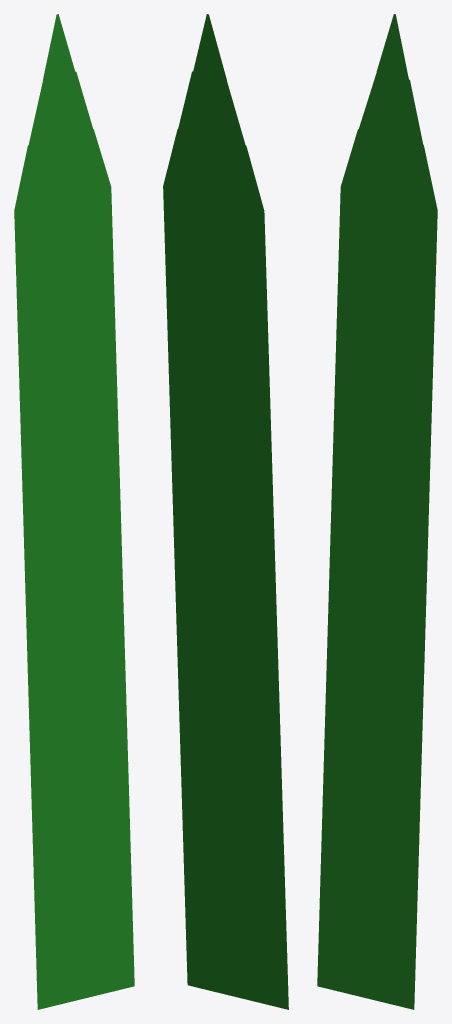
The model's file is Daun Pandan.fbx.
3 renders of one model, left to right at view 1: azimuth 30°, elevation 25°; view 2: azimuth 150°, elevation 25°; view 3: azimuth 330°, elevation 25°, orthographic. The views are drawn at different scales.
Parts seen in each view (by area): view 1: Cube; view 2: Cube; view 3: Cube.
Part boxes in pixels (box(x1,y1,x2,y2)): Cube: box(14, 14, 134, 1009); Cube: box(163, 14, 288, 1009); Cube: box(317, 14, 437, 1009).
Bounding box in the file's own units: 63.04 × 598 × 32.45.
